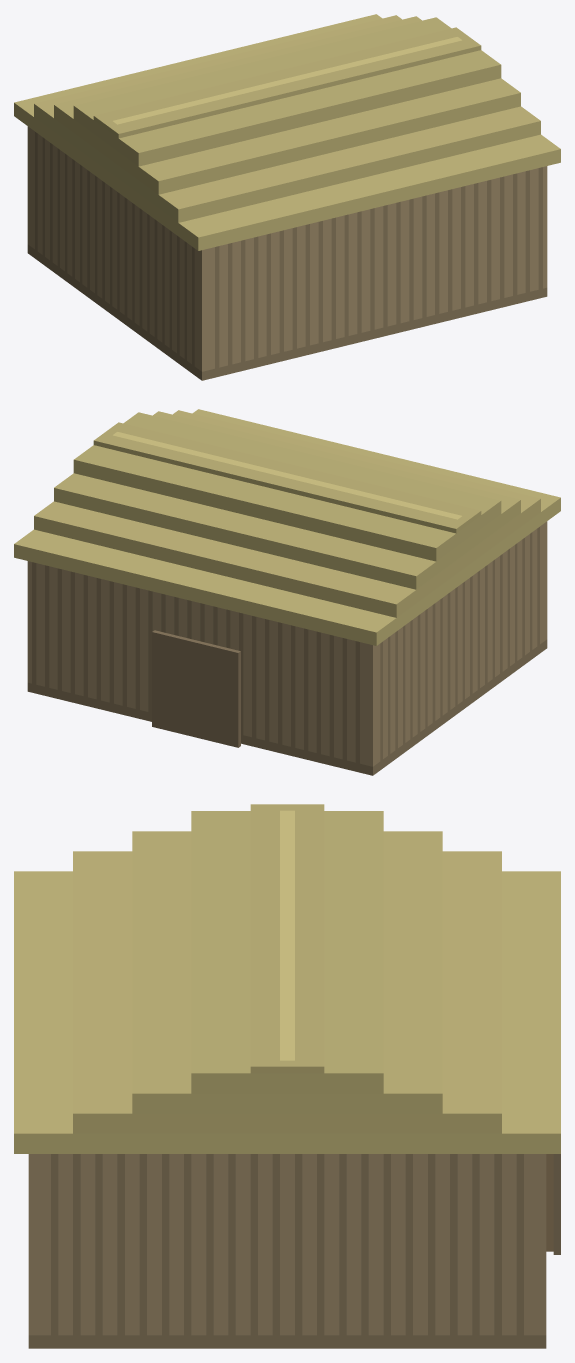
The model's file is granero_02.glb.
The picture shows the model from 3 angles, top to bottom: view 1: azimuth 30°, elevation 25°; view 2: azimuth 150°, elevation 25°; view 3: azimuth 270°, elevation 25°; orthographic projection. The views are drawn at different scales.
Parts seen in each view (by area): view 1: granero_02; view 2: granero_02; view 3: granero_02.
Part boxes in pixels (bbox=[...]): granero_02: bbox=[14, 14, 560, 380]; granero_02: bbox=[14, 409, 560, 775]; granero_02: bbox=[14, 804, 560, 1348].
Size of the model in its own units: 8.4 by 4.3 by 7.4.
